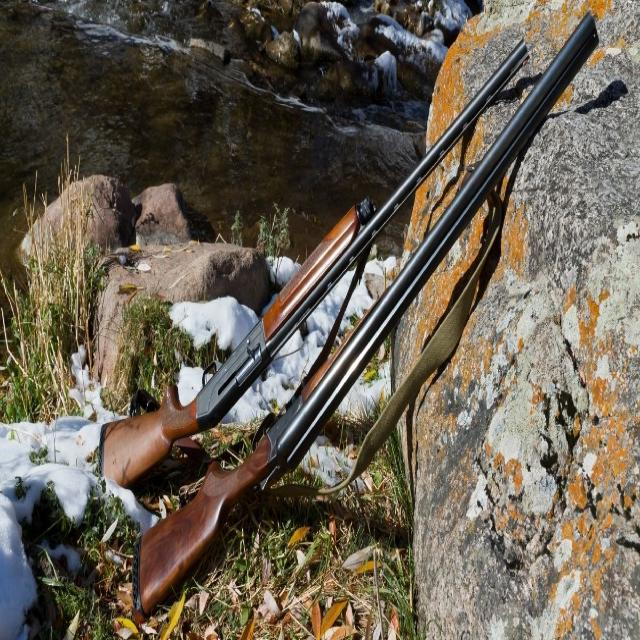ShotGun: (137, 14, 599, 615), (102, 43, 527, 486)
